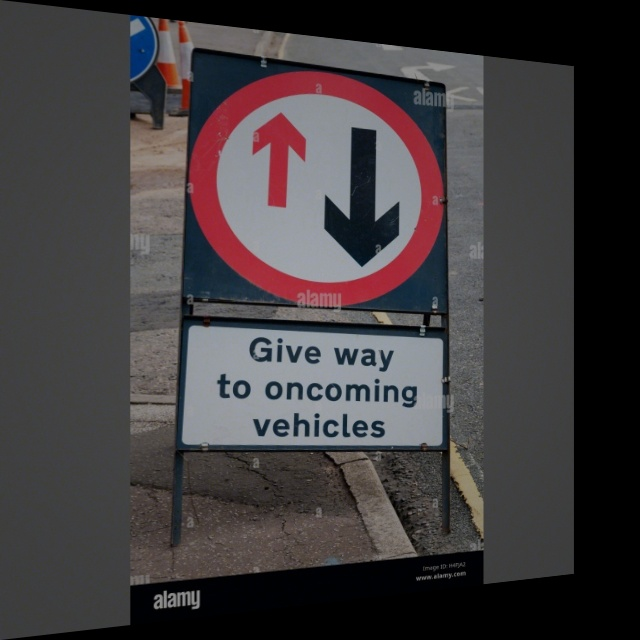Priority_for_Oncoming_Traffic: (190, 57, 447, 308)
